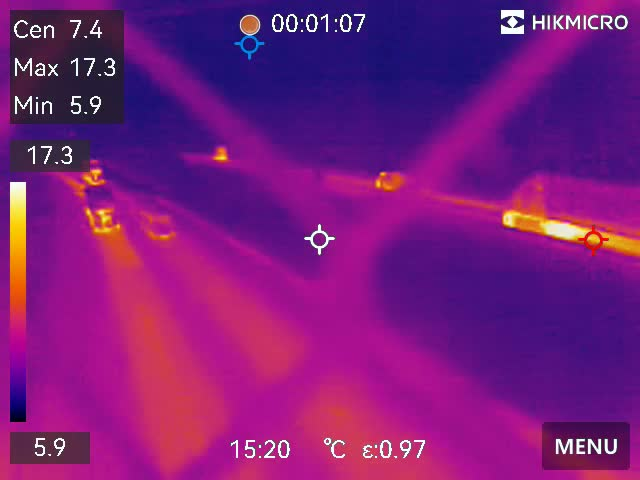heavyTruck: (505, 171, 640, 254)
